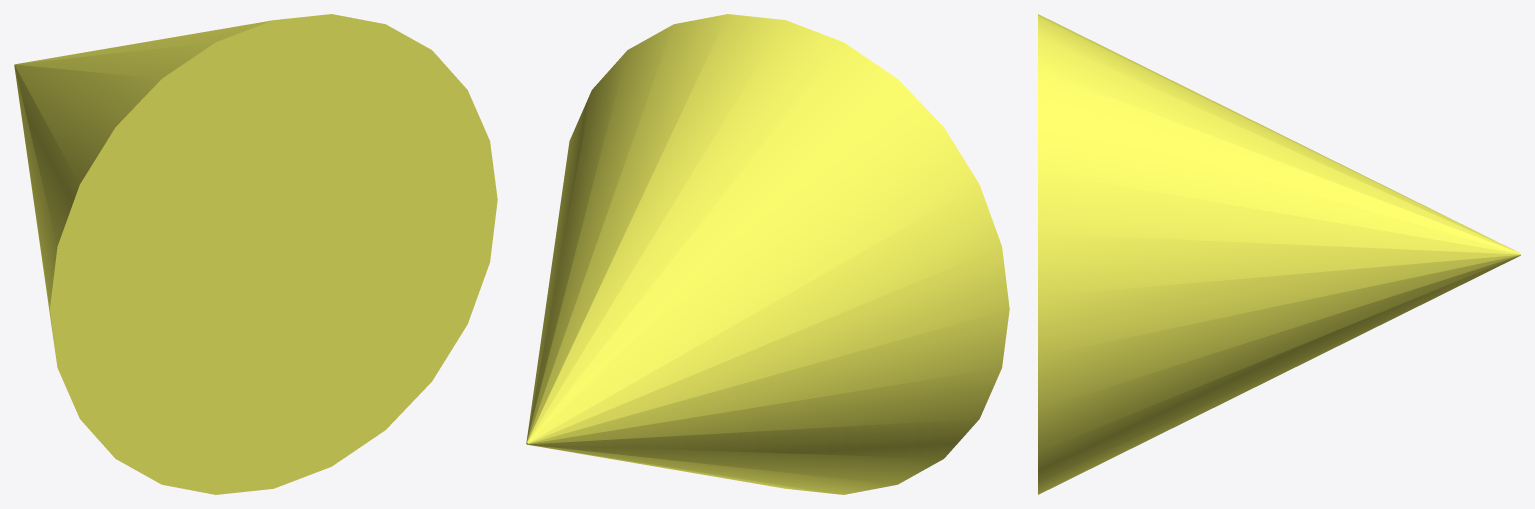
File: vec_135.dae
3 views of the same model, side by side, from view 1: azimuth 30°, elevation 25°; view 2: azimuth 150°, elevation 25°; view 3: azimuth 270°, elevation 25° (orthographic). The views are drawn at different scales.
Visible parts, largest first — view 1: Model; view 2: Model; view 3: Model.
Boxes of the visible parts, x1,y1,x2,y2 form: Model: (14,14,497,494); Model: (526,14,1009,494); Model: (1038,14,1520,494).
Bounding box in the file's own units: 1 × 1 × 1.
